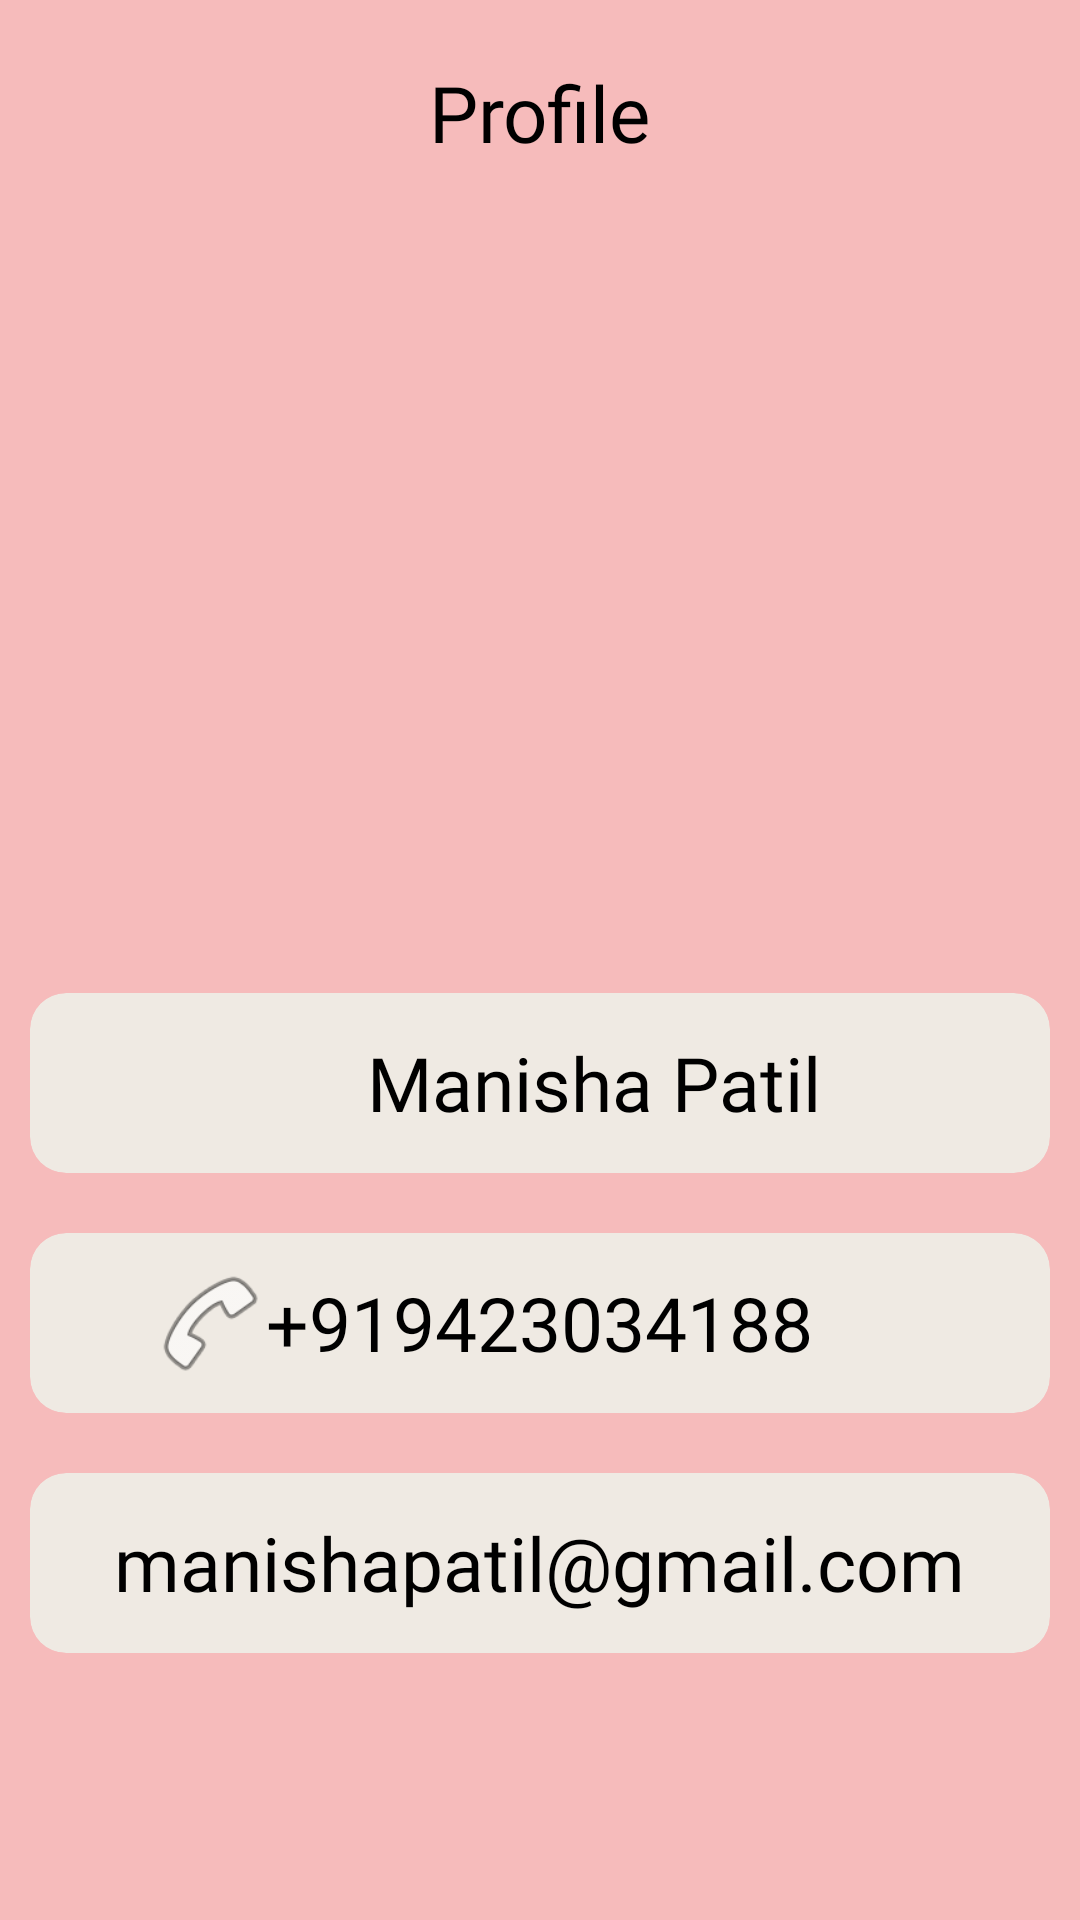

Screen size 1080×1920. Icon name, then its box in pixels as (x1, y1, x2, y2):
call: (164, 1277, 258, 1371)
